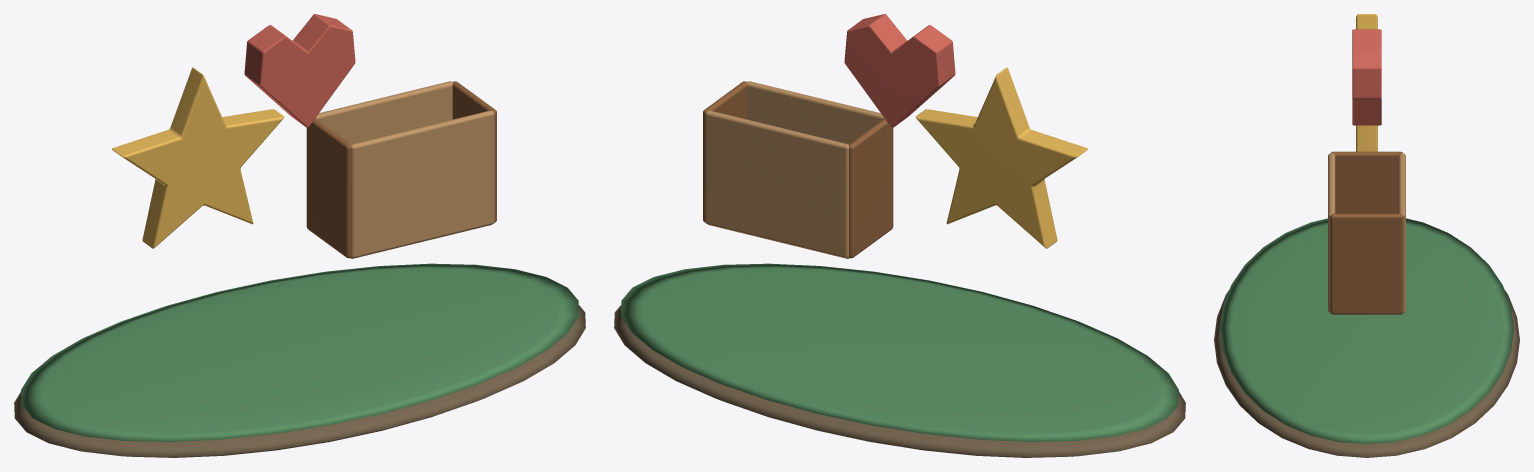
File: complete-second-fortunate-blessing.glb
3 views of the same model, side by side, from view 1: azimuth 30°, elevation 25°; view 2: azimuth 150°, elevation 25°; view 3: azimuth 270°, elevation 25° (orthographic). The views are drawn at different scales.
Visible parts, largest first — view 1: complete-second-fortunate-blessing_surface_01, complete-second-fortunate-blessing_surface_03, complete-second-fortunate-blessing_surface_02, complete-second-fortunate-blessing_surface_00, complete-second-fortunate-blessing_surface_05, complete-second-fortunate-blessing_surface_04; view 2: complete-second-fortunate-blessing_surface_01, complete-second-fortunate-blessing_surface_03, complete-second-fortunate-blessing_surface_02, complete-second-fortunate-blessing_surface_00, complete-second-fortunate-blessing_surface_05, complete-second-fortunate-blessing_surface_04; view 3: complete-second-fortunate-blessing_surface_01, complete-second-fortunate-blessing_surface_04, complete-second-fortunate-blessing_surface_00, complete-second-fortunate-blessing_surface_05, complete-second-fortunate-blessing_surface_03, complete-second-fortunate-blessing_surface_02.
Boxes of the visible parts, left/top/right/bottom form: complete-second-fortunate-blessing_surface_01: left=21, top=263, right=578, bottom=441; complete-second-fortunate-blessing_surface_03: left=315, top=81, right=494, bottom=258; complete-second-fortunate-blessing_surface_02: left=111, top=67, right=284, bottom=248; complete-second-fortunate-blessing_surface_00: left=14, top=305, right=585, bottom=457; complete-second-fortunate-blessing_surface_05: left=244, top=14, right=355, bottom=127; complete-second-fortunate-blessing_surface_04: left=306, top=81, right=496, bottom=258; complete-second-fortunate-blessing_surface_01: left=621, top=263, right=1178, bottom=441; complete-second-fortunate-blessing_surface_03: left=705, top=81, right=884, bottom=258; complete-second-fortunate-blessing_surface_02: left=915, top=67, right=1088, bottom=248; complete-second-fortunate-blessing_surface_00: left=614, top=305, right=1185, bottom=457; complete-second-fortunate-blessing_surface_05: left=844, top=14, right=955, bottom=127; complete-second-fortunate-blessing_surface_04: left=703, top=81, right=893, bottom=258; complete-second-fortunate-blessing_surface_01: left=1220, top=218, right=1513, bottom=444; complete-second-fortunate-blessing_surface_04: left=1330, top=151, right=1403, bottom=314; complete-second-fortunate-blessing_surface_00: left=1214, top=290, right=1519, bottom=457; complete-second-fortunate-blessing_surface_05: left=1352, top=29, right=1381, bottom=125; complete-second-fortunate-blessing_surface_03: left=1328, top=153, right=1405, bottom=312; complete-second-fortunate-blessing_surface_02: left=1356, top=14, right=1377, bottom=151.
Size of the model in its own units: 4.56 by 2.84 by 2.5.
